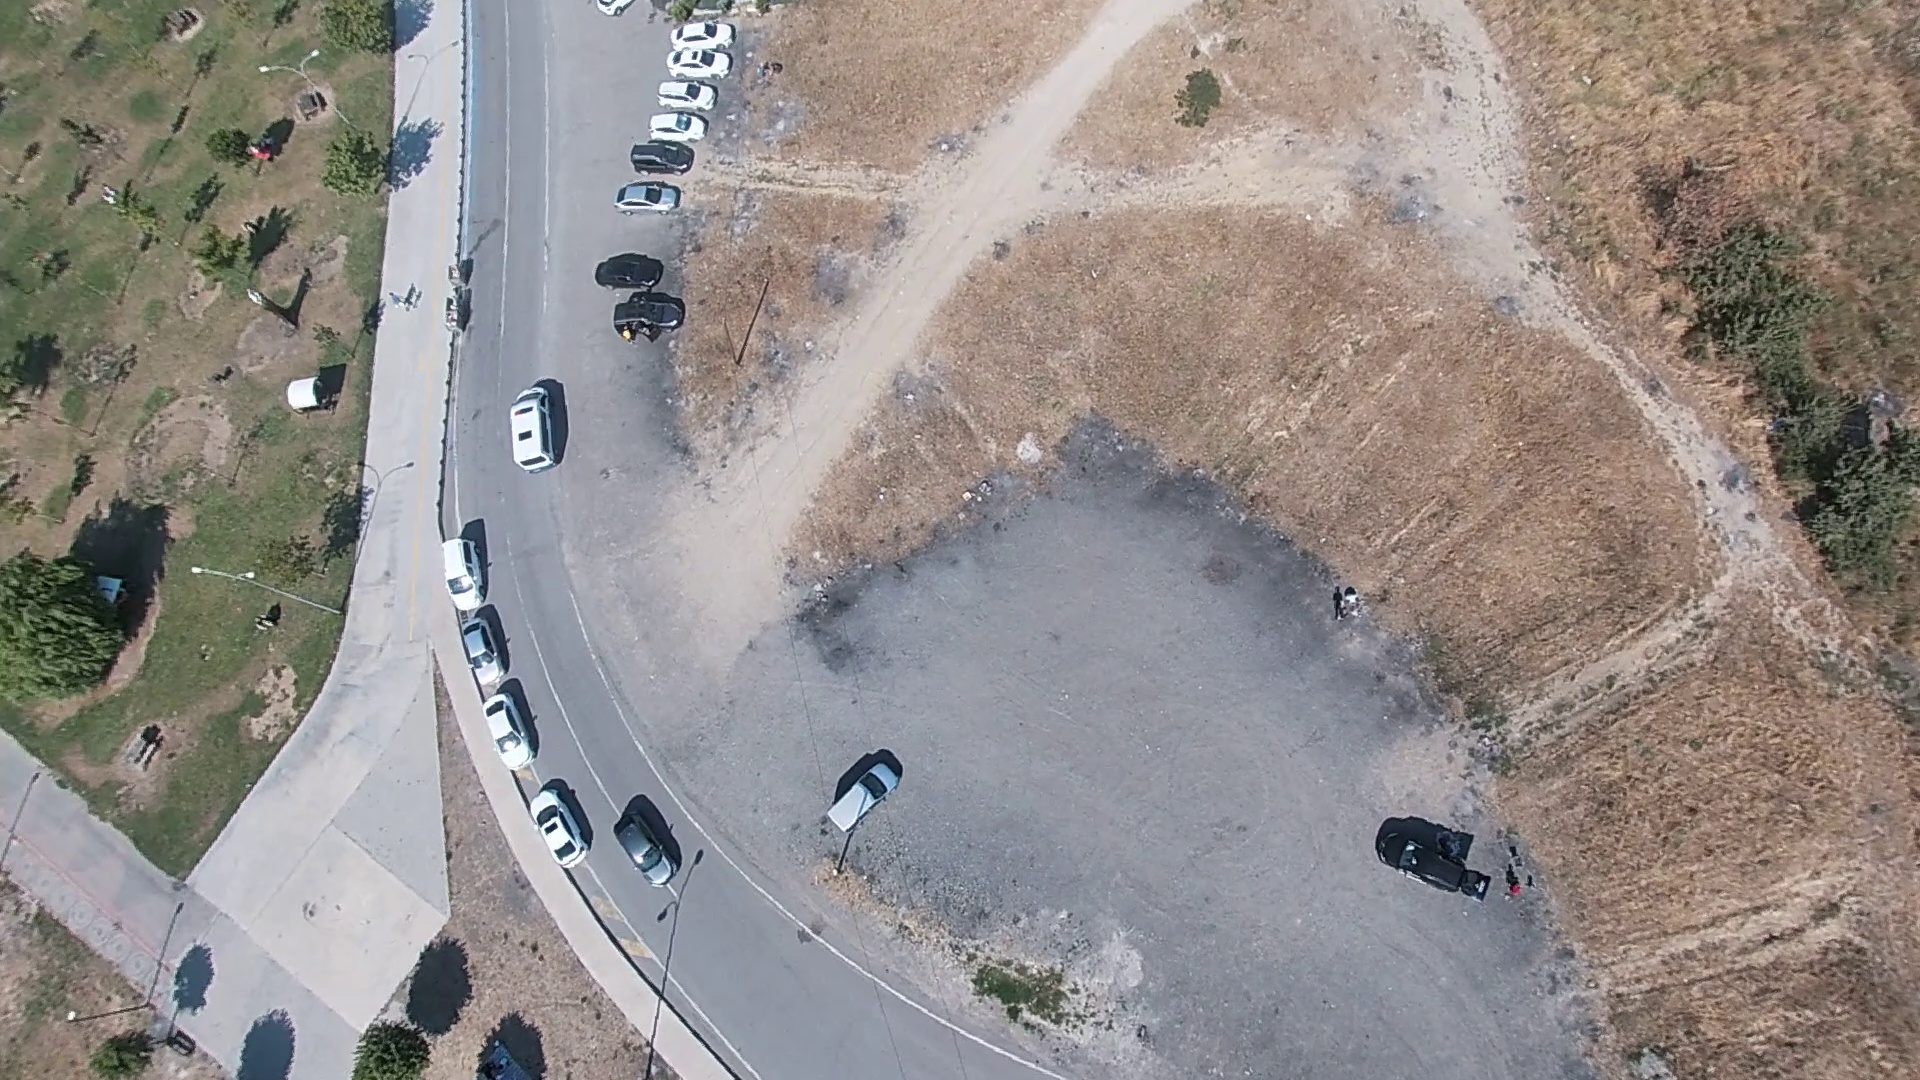arac: (505, 379, 562, 473), (609, 179, 672, 208)
insan: (247, 118, 293, 162), (130, 726, 167, 769), (1332, 586, 1359, 627), (253, 600, 284, 636)
